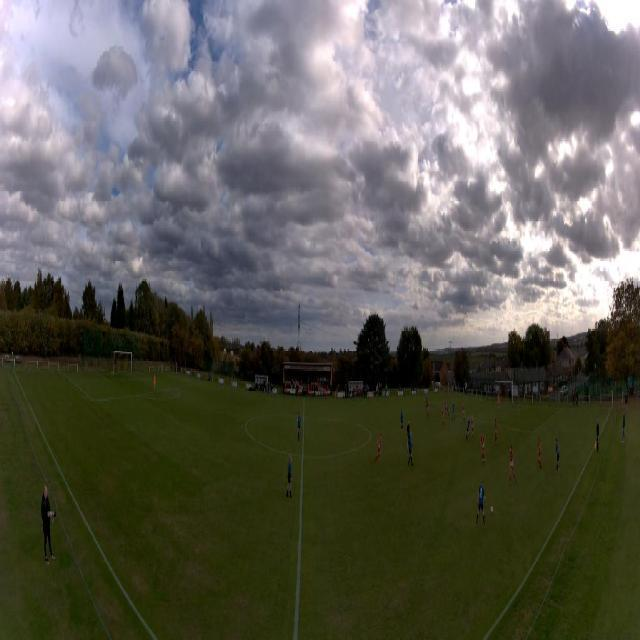ball: (490, 506, 493, 514)
player: (475, 480, 486, 528), (509, 445, 516, 486), (375, 433, 384, 462), (286, 455, 292, 497), (407, 432, 414, 466), (555, 439, 560, 476), (537, 436, 542, 468), (297, 413, 302, 440), (493, 419, 498, 445), (466, 416, 471, 442), (481, 430, 485, 462), (471, 415, 475, 441), (452, 400, 457, 420), (407, 421, 411, 441), (401, 409, 404, 433), (154, 373, 157, 393), (462, 403, 465, 423), (442, 409, 445, 427), (426, 401, 429, 418), (445, 400, 447, 418), (447, 399, 449, 416), (498, 394, 500, 410), (426, 393, 427, 409)
